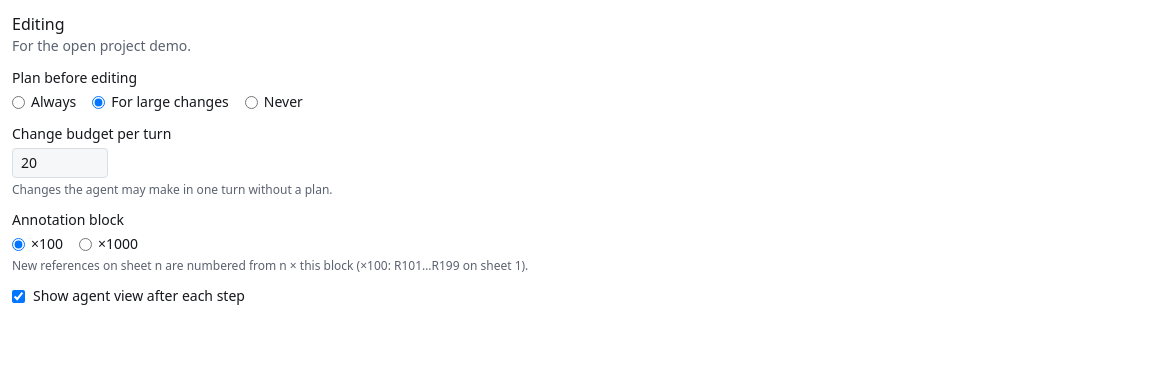
EditingSection › the newest save failing before an older one succeeds still ends on the server state
Click the radio button labelled "Always". click: point(18, 102)
box: left=12, top=96, right=25, bottom=108
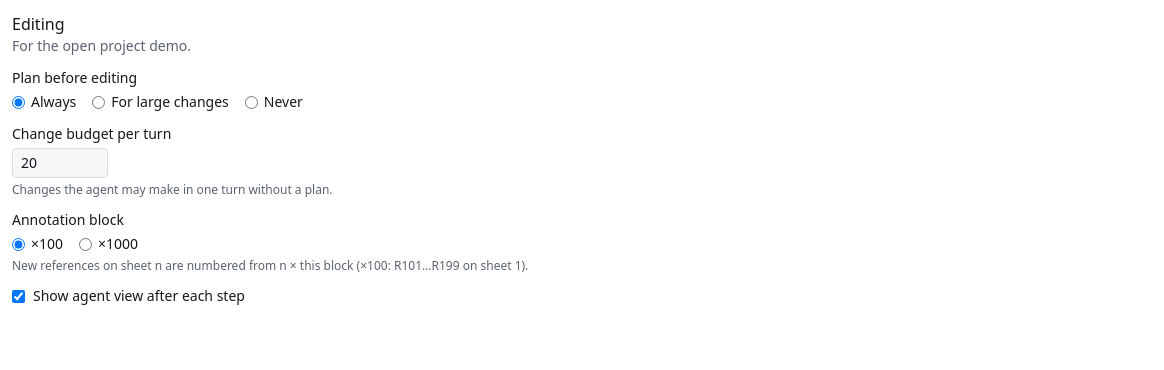
Click the radio button labelled "×1000". click: point(86, 244)
box: left=79, top=238, right=92, bottom=250
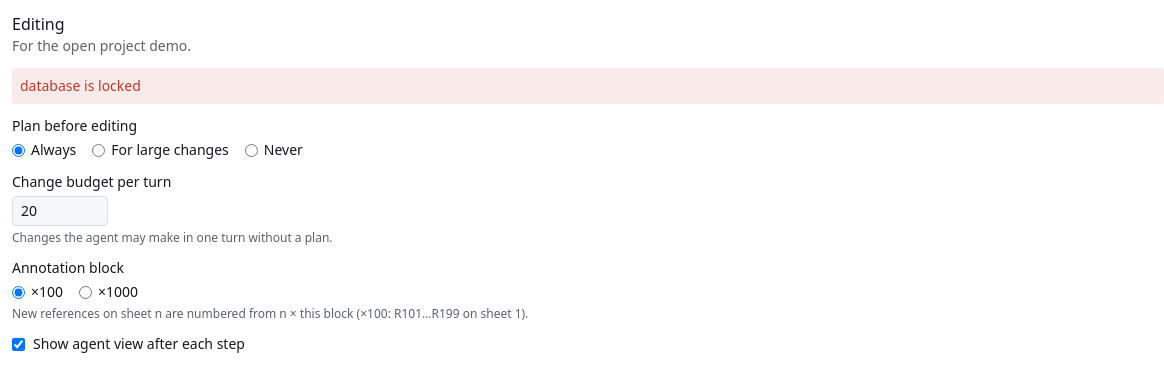
Expected: the radio button labelled "×100" is checked, left=12, top=286, right=25, bottom=298
Result: the radio button labelled "Always" is checked at left=12, top=144, right=25, bottom=156
Result: the message reads "database is locked" at left=20, top=76, right=141, bottom=95
